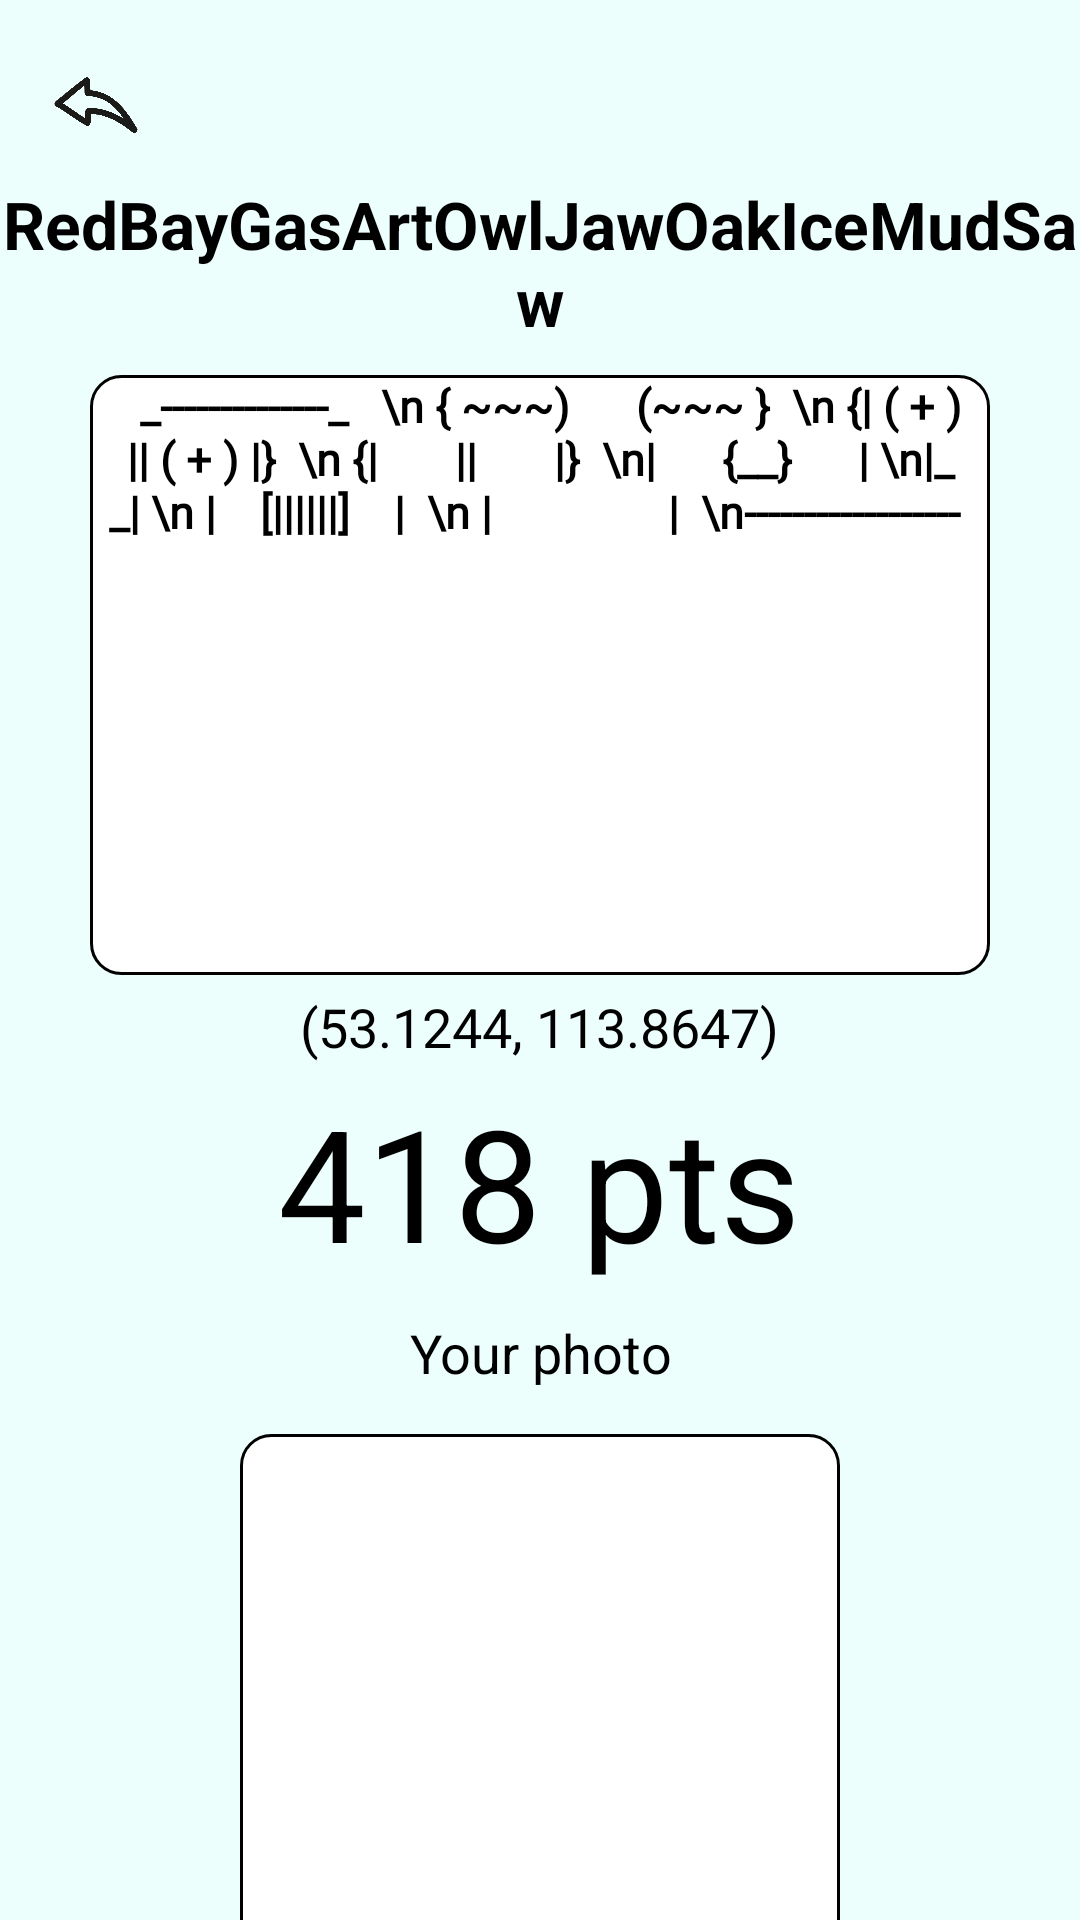

Point at icon controls on the screen. Image size 1080 x 1920, points as point (x, y).
arrow: point (96, 105)
